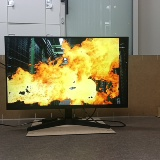fire: (5, 36, 128, 106)
